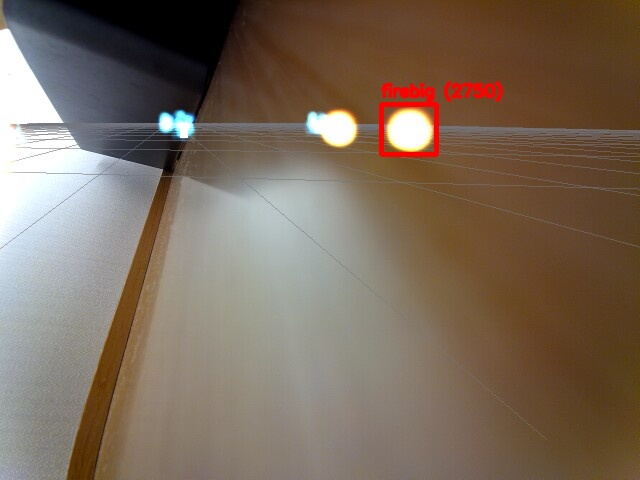firebig: (381, 104, 436, 154)
